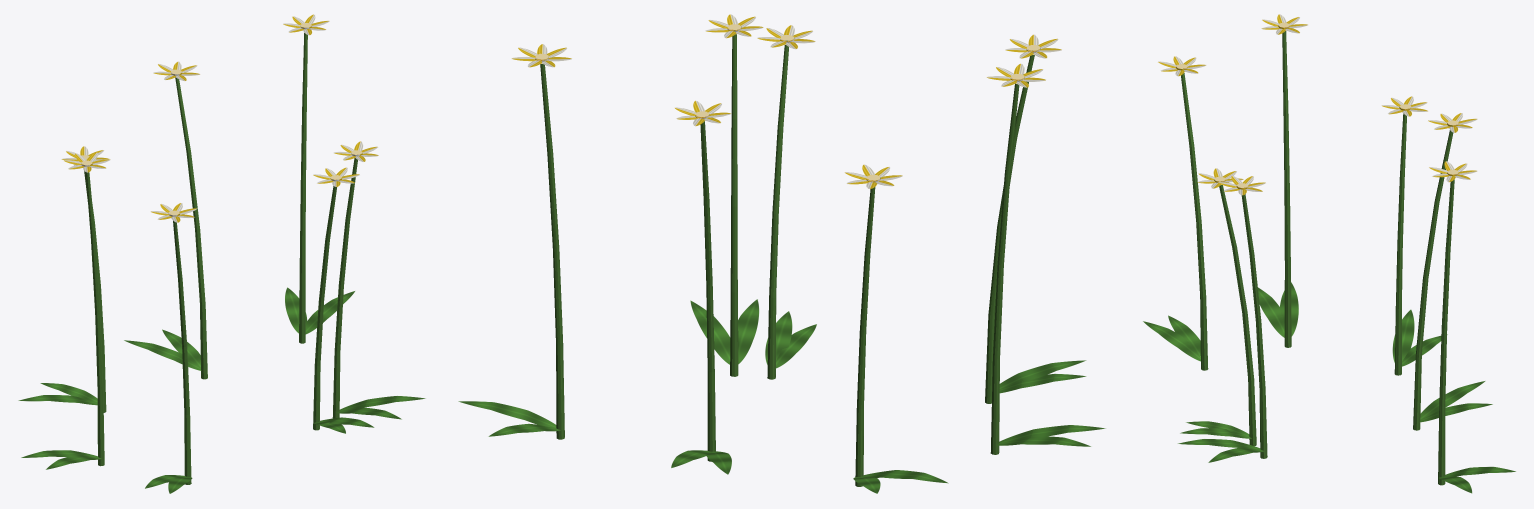
The model's file is meadow_flower_mix_v01.glb.
3 renders of one model, left to right at view 1: azimuth 30°, elevation 25°; view 2: azimuth 150°, elevation 25°; view 3: azimuth 270°, elevation 25°, orthographic. The views are drawn at different scales.
Parts seen in each view (by area): view 1: meadow_flower_mix_v01; view 2: meadow_flower_mix_v01; view 3: meadow_flower_mix_v01.
Part boxes in pixels (left/top/right/bottom): meadow_flower_mix_v01: left=18, top=14, right=425, bottom=493; meadow_flower_mix_v01: left=458, top=14, right=1105, bottom=493; meadow_flower_mix_v01: left=1143, top=14, right=1515, bottom=493.
Bounding box in the file's own units: 0.6345 × 0.4417 × 0.4845.
3 materials, 3 textured.
